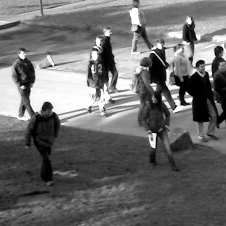person: (142, 90, 180, 170), (25, 102, 61, 186), (186, 59, 217, 143), (10, 47, 37, 120), (151, 38, 178, 110), (86, 47, 111, 119), (125, 1, 154, 54), (135, 56, 153, 129), (95, 34, 114, 103), (172, 43, 191, 107), (101, 26, 118, 93), (179, 14, 198, 71), (215, 62, 226, 130), (210, 46, 226, 80)
